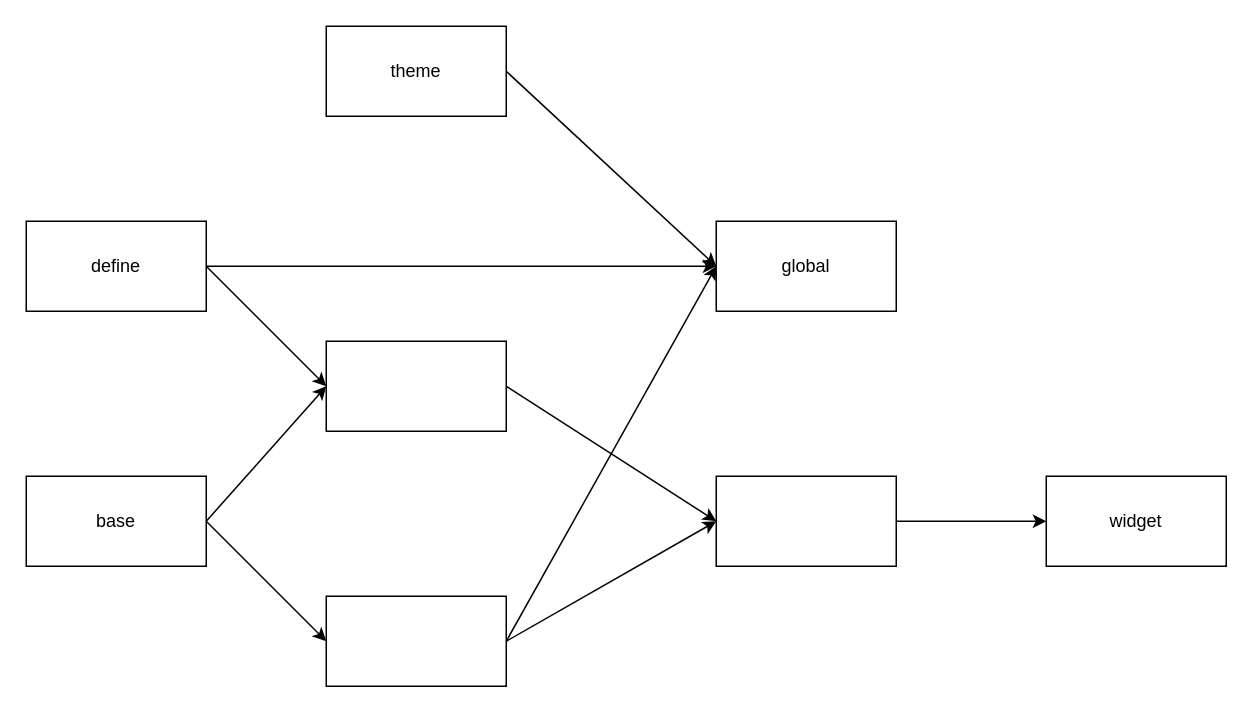
The diagram is 1253 pixels wide and 713 high, and some of its shapes have lost their labels. The box of each missing label's shape, as (x1, y1, x2, y2) in pixels:
config: (325, 595, 506, 686)
enum: (325, 340, 506, 431)
function: (715, 475, 896, 566)
